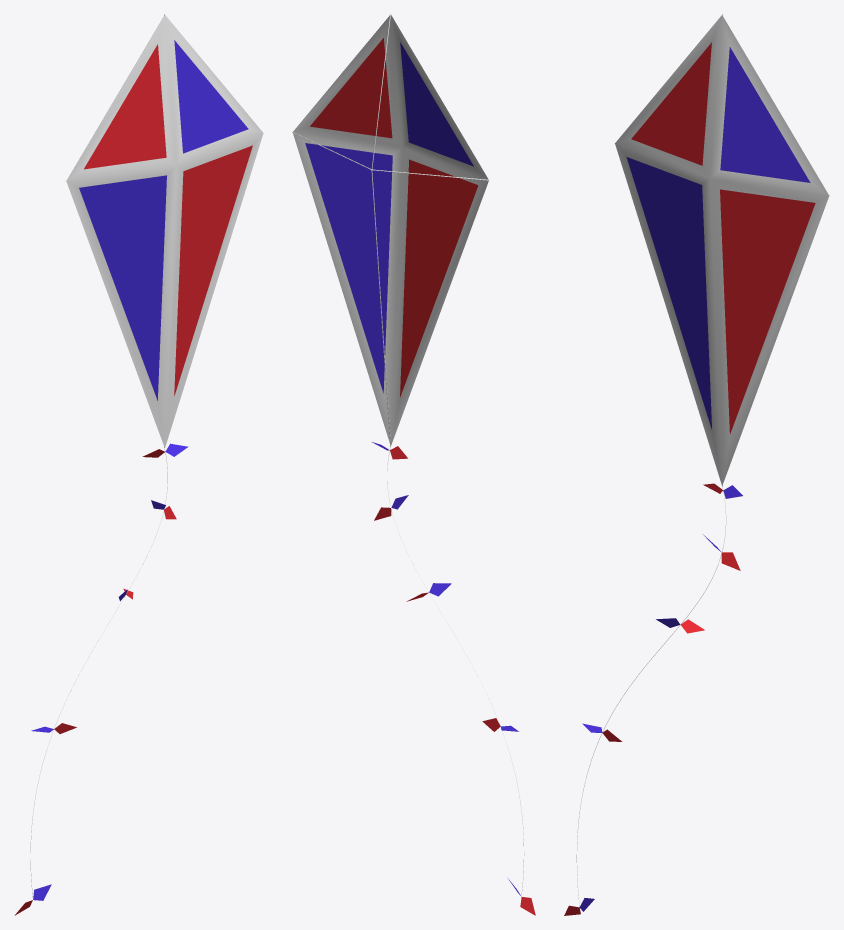
The model's file is kite_basic.glb.
The picture shows the model from 3 angles, left to right: view 1: azimuth 30°, elevation 25°; view 2: azimuth 150°, elevation 25°; view 3: azimuth 330°, elevation 25°; orthographic projection. The views are drawn at different scales.
Visible parts, largest first — view 1: 2.027, 1.053, 0.090; view 2: 2.027, 1.053, 0.090; view 3: 2.027, 0.090, 1.053.
Part boxes in pixels (box(x1,y1,x2,y2)): 2.027: box(30, 14, 263, 899); 1.053: box(31, 40, 248, 900); 0.090: box(14, 44, 252, 915); 2.027: box(292, 14, 524, 895); 1.053: box(305, 42, 521, 896); 0.090: box(310, 38, 535, 915); 2.027: box(576, 14, 829, 906); 0.090: box(564, 42, 815, 915); 1.053: box(579, 47, 810, 911).
Bounding box in the file's own units: 0.5133 × 1.72 × 0.1118.
